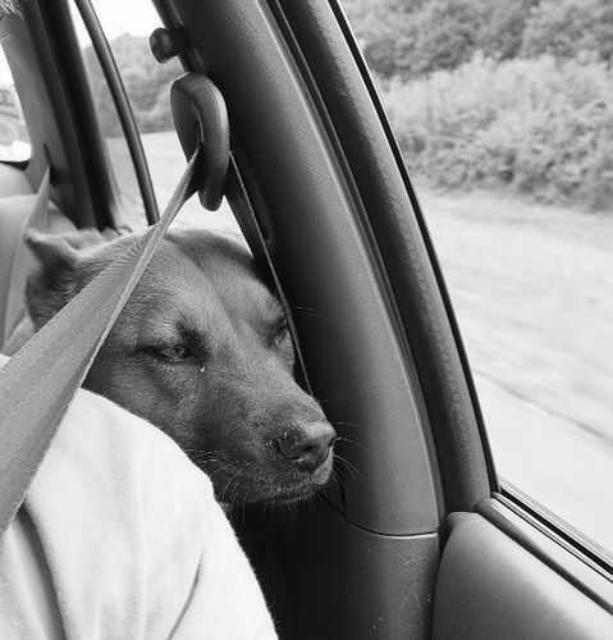Seatbelt: (1, 70, 240, 578)
